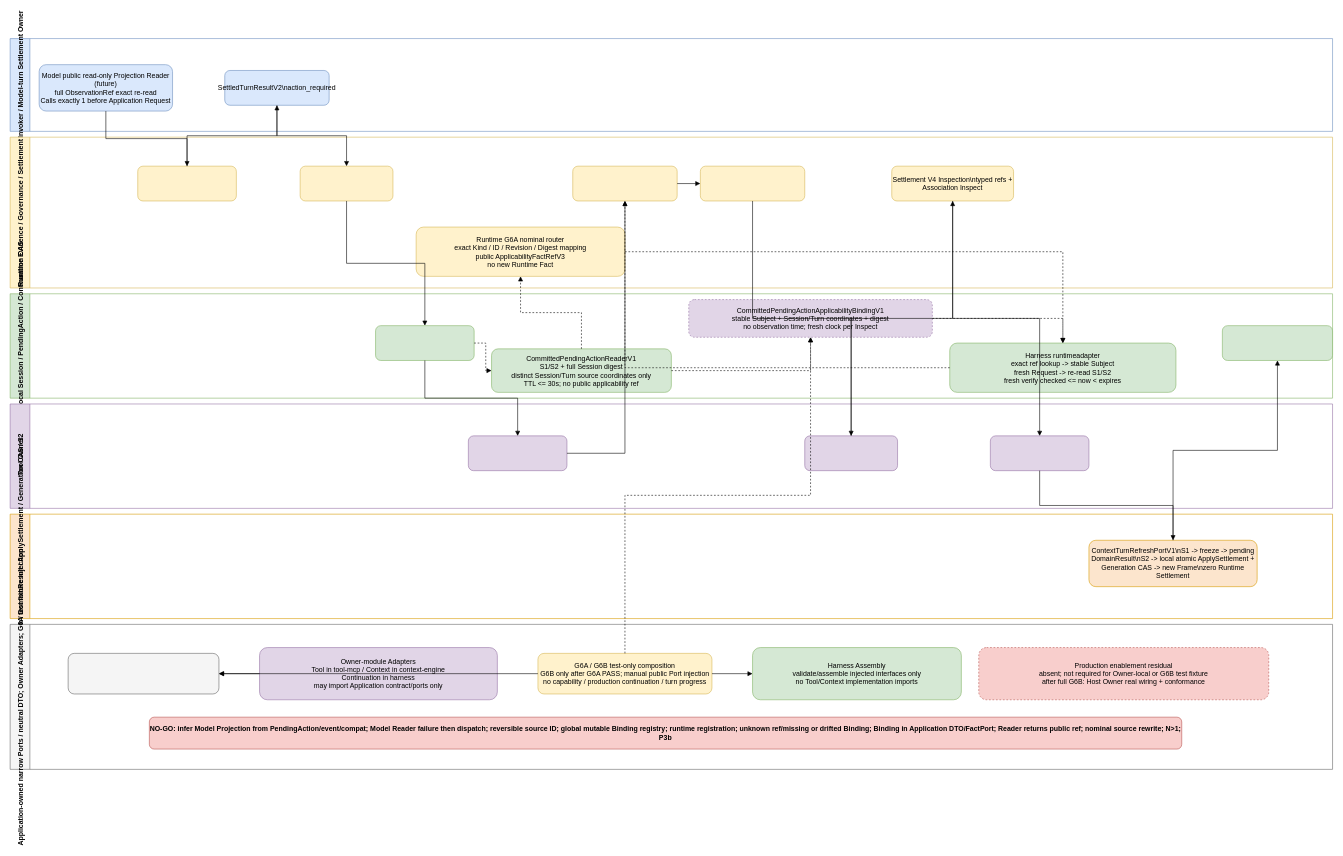
This 1343x856 diagram has some shape labels left out. Here are the shapes that lost their labels. From the top down, the centre of each, then its label:
At point (186, 183): "Run Evidence V2\nAppend / Inspect".
At point (346, 183): "Model Settlement V3".
At point (624, 183): "Dispatch V4 / Begin\nEnforcement 4.1".
At point (752, 183): "Evidence V3\nprepare + execute".
At point (424, 342): "PendingAction CAS\nwaiting_action".
At point (1277, 342): "Continuation CAS\nnew exact Frame / turn + 1".
At point (517, 453): "ActionCandidate\n+ Reservation".
At point (851, 453): "DomainResultFact".
At point (1039, 453): "ApplySettlement\nToolResult".
At point (143, 673): "Application Owner narrow Ports + neutral DTO no Owner imports".
